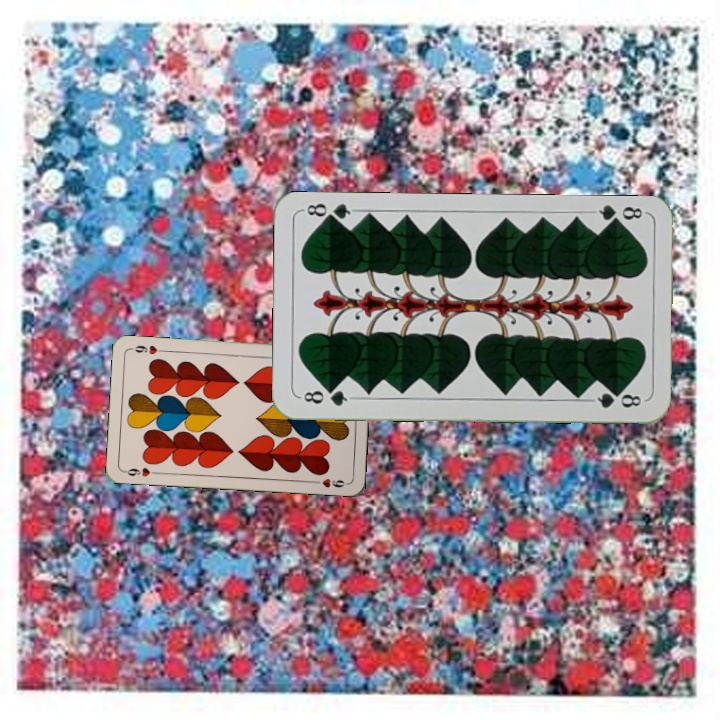G8: (589, 202, 648, 229), (296, 385, 355, 409)
H9: (120, 464, 161, 479)
